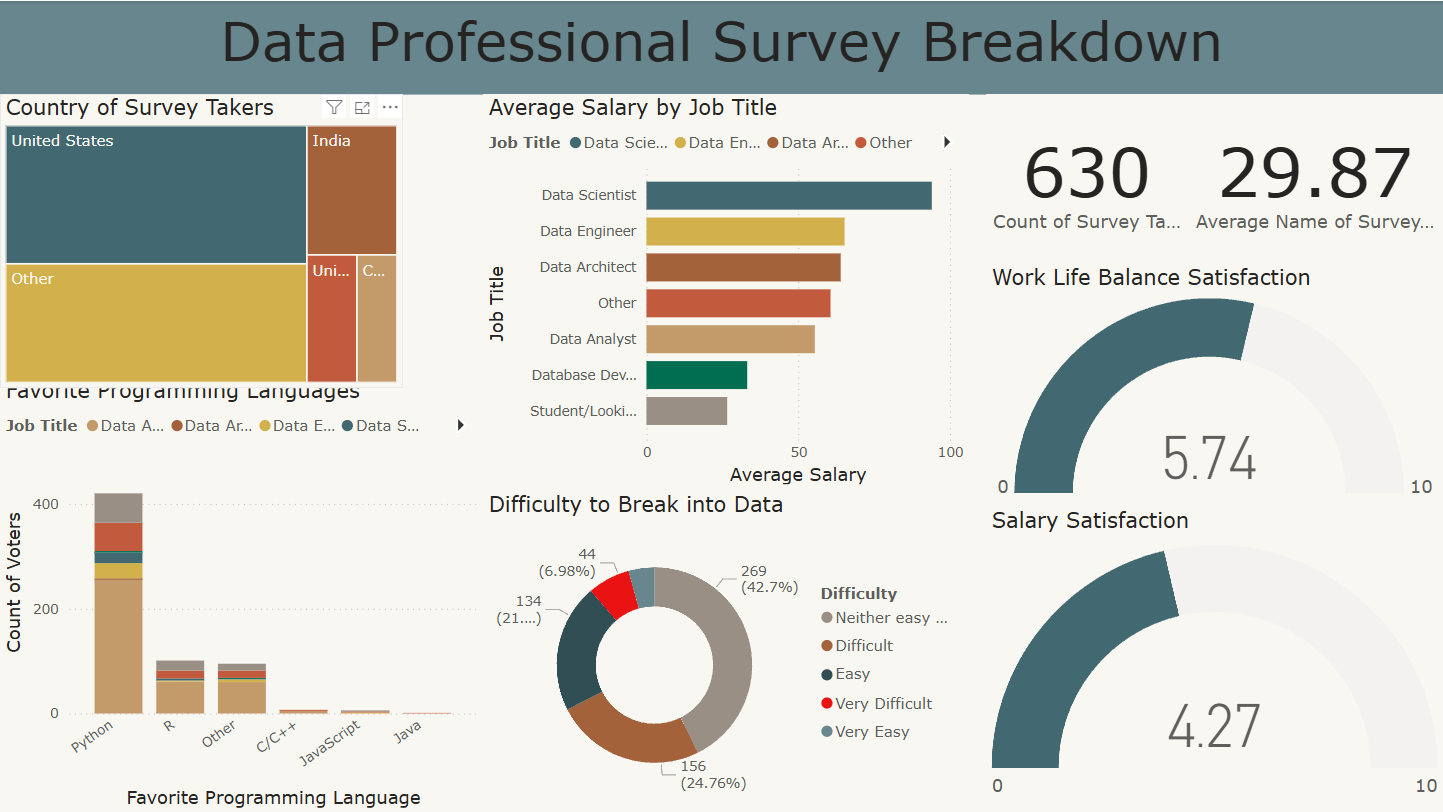

The page's visual inventory and layout, read from the dashboard file:
{"tool":"powerbi","page":{"name":"Page 1","canvas":[1280,720],"ordinal":0},"visuals":[{"type":"textbox","box":[0,0,1280,82.8],"z":0},{"type":"card","fields":{"Values":["Count(Data Professional Survey.Unique ID)"]},"box":[873.9,82.8,179,150.1],"z":1000},{"type":"card","fields":{"Values":["Avg(Data Professional Survey.Q10 - Current Age)"]},"box":[1052.9,82.8,227.1,150.1],"z":2000},{"type":"barChart","title":"Average Salary by Job Title","fields":{"Category":["Data Professional Survey.Q1 - Which Title Best Fits your Current Role?.1"],"Y":["Avg(Data Professional Survey.Average Salary)"],"Series":["Data Professional Survey.Q1 - Which Title Best Fits your Current Role?.1"]},"box":[428.3,82.8,431.2,351.3],"z":3000},{"type":"columnChart","title":"Favorite Programming Languages","fields":{"Category":["Data Professional Survey.Q5 - Favorite Programming Language.1"],"Y":["CountNonNull(Data Professional Survey.Unique ID)"],"Series":["Data Professional Survey.Q1 - Which Title Best Fits your Current Role?.1"]},"box":[0,333,428.3,386.9],"z":4000},{"type":"treemap","title":"Country of Survey Takers","fields":{"Group":["Data Professional Survey.Q11 - Which Country do you live in?.1"],"Values":["CountNonNull(Data Professional Survey.Q11 - Which Country do you live in?.1)"]},"box":[0,82.8,357.1,260.8],"z":5000},{"type":"gauge","title":"Work Life Balance Satisfaction","fields":{"Y":["Avg(Data Professional Survey.Q6 - How Happy are you in your Current Position with the following? (Work/Life Balance))"],"MinValue":["Min(Data Professional Survey.Q6 - How Happy are you in your Current Position with the following? (Work/Life Balance))1"],"MaxValue":["Max(Data Professional Survey.Q6 - How Happy are you in your Current Position with the following? (Work/Life Balance))2"]},"box":[873.9,232.9,406.1,215.6],"z":6000},{"type":"gauge","title":"Salary Satisfaction","fields":{"Y":["Avg(Data Professional Survey.Q6 - How Happy are you in your Current Position with the following? (Salary))"],"MinValue":["Min(Data Professional Survey.Q6 - How Happy are you in your Current Position with the following? (Salary))"],"MaxValue":["Max(Data Professional Survey.Q6 - How Happy are you in your Current Position with the following? (Salary))"]},"box":[873.9,448.5,406.1,271.4],"z":7000},{"type":"donutChart","title":"Difficulty to Break into Data","fields":{"Category":["Data Professional Survey.Q7 - How difficult was it for you to break into Data?"],"Y":["CountNonNull(Data Professional Survey.Q7 - How difficult was it for you to break into Data?)"]},"box":[428.3,434,431.2,285.8],"z":8000}]}

Visuals, with their boxes in screenshot pixels (x1, y1, x2, y2), scaled from the page's 1280x720 canvas onto the 1443x812 screenshot:
textbox: (left=0, top=0, right=1442, bottom=93)
card - Count(Data Professional Survey.Unique ID): (left=985, top=93, right=1187, bottom=263)
card - Avg(Data Professional Survey.Q10 - Current Age): (left=1187, top=93, right=1442, bottom=263)
"Average Salary by Job Title" barChart: (left=483, top=93, right=969, bottom=490)
"Favorite Programming Languages" columnChart: (left=0, top=376, right=483, bottom=811)
"Country of Survey Takers" treemap: (left=0, top=93, right=403, bottom=388)
"Work Life Balance Satisfaction" gauge: (left=985, top=263, right=1442, bottom=506)
"Salary Satisfaction" gauge: (left=985, top=506, right=1442, bottom=811)
"Difficulty to Break into Data" donutChart: (left=483, top=489, right=969, bottom=811)
